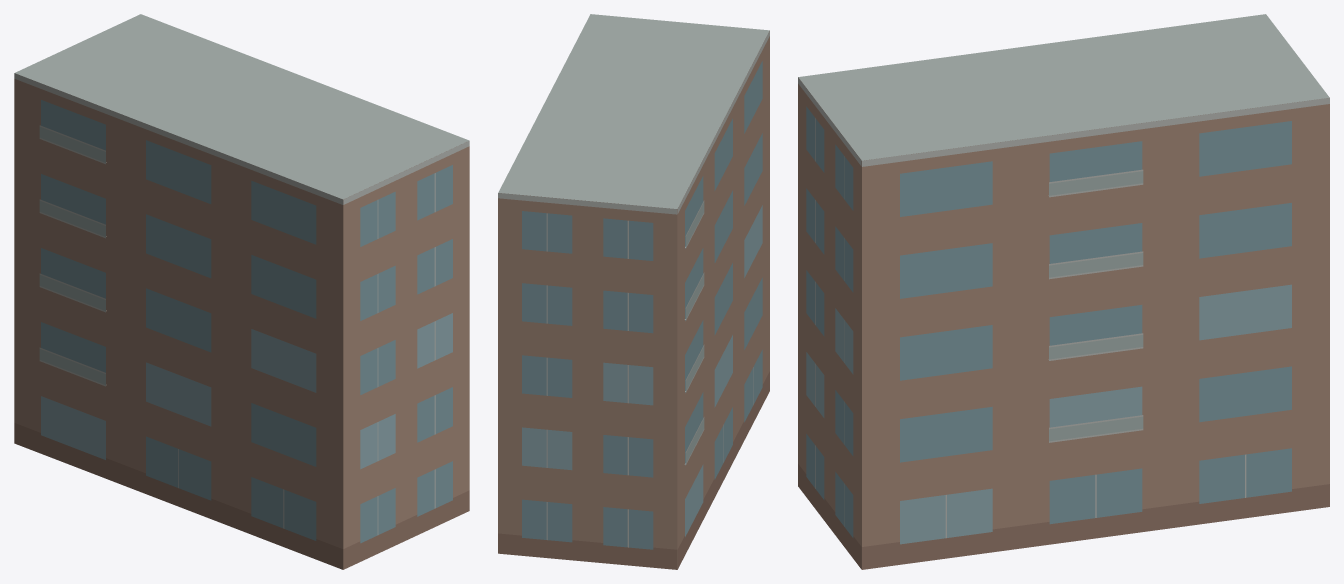
The model's file is survey-upis-32919530.glb.
3 views of the same model, side by side, from view 1: azimuth 30°, elevation 25°; view 2: azimuth 150°, elevation 25°; view 3: azimuth 270°, elevation 25° (orthographic). The views are drawn at different scales.
Parts seen in each view (by area): view 1: survey-upis-32919530.tmp; view 2: survey-upis-32919530.tmp; view 3: survey-upis-32919530.tmp.
Boxes of the visible parts, x1,y1,x2,y2 form: survey-upis-32919530.tmp: (14,14,469,569); survey-upis-32919530.tmp: (498,14,769,569); survey-upis-32919530.tmp: (798,14,1329,569).
Size of the model in its own units: 12.32 by 16 by 18.85.
